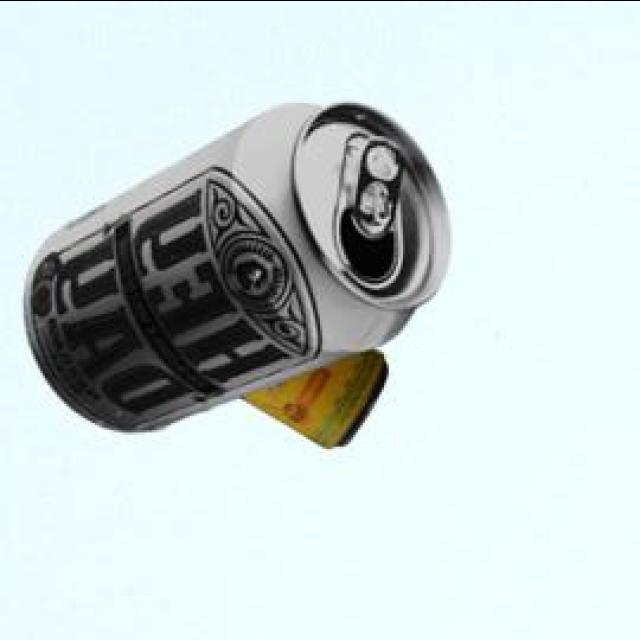logam: (27, 105, 454, 433), (245, 352, 392, 452)
